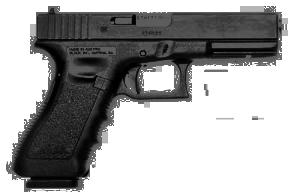handgun: (8, 0, 284, 192)
